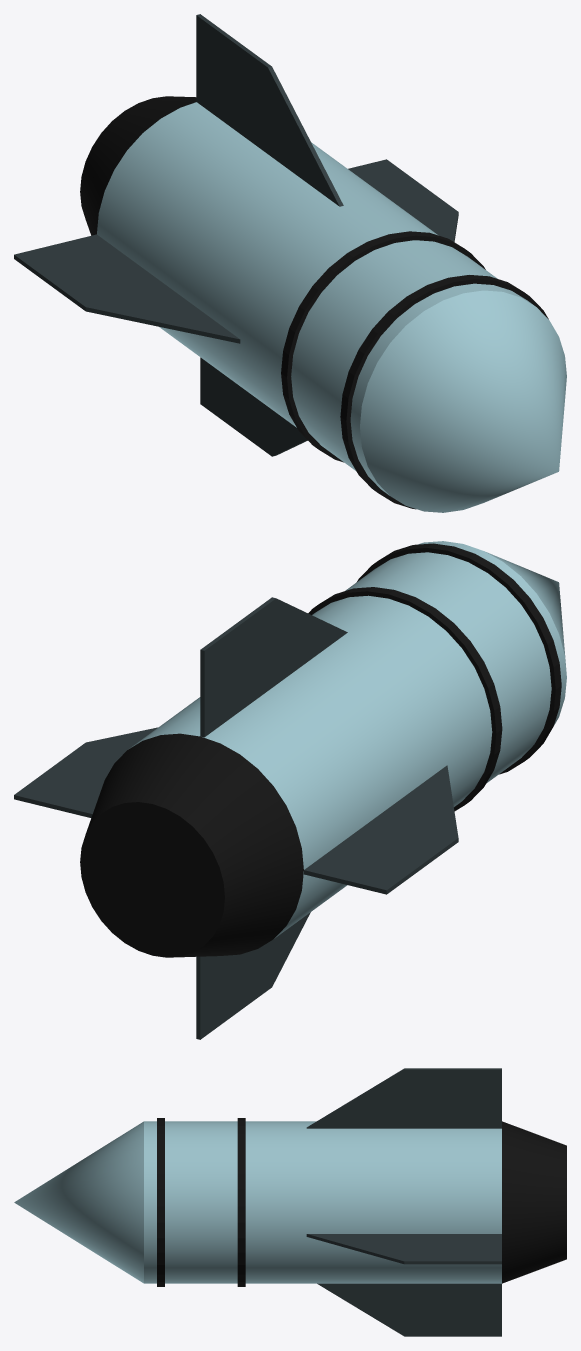
File: rocket_booster_visual.obj
The picture shows the model from 3 angles, top to bottom: view 1: azimuth 30°, elevation 25°; view 2: azimuth 150°, elevation 25°; view 3: azimuth 270°, elevation 25°; orthographic projection. The views are drawn at different scales.
Visible parts, largest first — view 1: Cylinder, Cone, Plane.004, Plane, Cone.001, Plane.002, Cylinder.002, Cylinder.001, Plane.003; view 2: Cylinder, Cone.001, Plane.004, Plane, Plane.002, Plane.003, Cylinder.002, Cylinder.001, Cone; view 3: Cylinder, Cone, Cone.001, Plane.004, Plane.002, Plane.003, Cylinder.001, Cylinder.002.
Part boxes in pixels (x1=…): Cylinder: x1=97, y1=102, x2=534, y2=495; Cone: x1=360, y1=290, x2=566, y2=512; Plane.004: x1=196, y1=14, x2=343, y2=206; Plane: x1=14, y1=234, x2=240, y2=343; Cone.001: x1=80, y1=96, x2=196, y2=235; Plane.002: x1=200, y1=357, x2=307, y2=456; Cylinder.002: x1=340, y1=275, x2=548, y2=509; Cylinder.001: x1=281, y1=231, x2=485, y2=462; Plane.003: x1=348, y1=159, x2=458, y2=241; Cylinder: x1=128, y1=541, x2=566, y2=938; Cone.001: x1=80, y1=733, x2=303, y2=957; Plane.004: x1=200, y1=597, x2=347, y2=737; Plane: x1=304, y1=765, x2=458, y2=894; Plane.002: x1=196, y1=912, x2=310, y2=1039; Plane.003: x1=14, y1=727, x2=157, y2=817; Cylinder.002: x1=357, y1=543, x2=561, y2=774; Cylinder.001: x1=308, y1=587, x2=502, y2=811; Cone: x1=484, y1=551, x2=566, y2=668; Cylinder: x1=144, y1=1121, x2=501, y2=1283; Cone: x1=14, y1=1121, x2=143, y2=1283; Cone.001: x1=502, y1=1121, x2=566, y2=1283; Plane.004: x1=306, y1=1068, x2=501, y2=1128; Plane.002: x1=317, y1=1283, x2=501, y2=1336; Plane.003: x1=306, y1=1234, x2=501, y2=1264; Cylinder.001: x1=237, y1=1118, x2=245, y2=1286; Cylinder.002: x1=157, y1=1118, x2=164, y2=1286.
Bounding box in the file's own units: 1.8 × 1.8 × 3.4.
